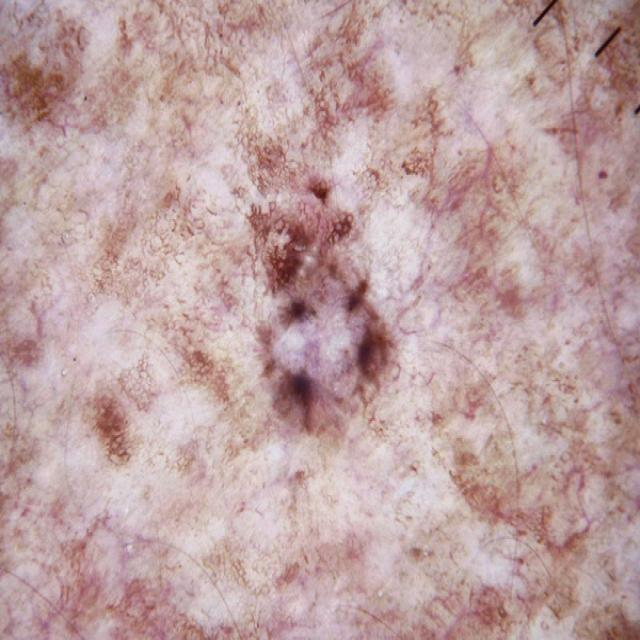Basal-Cell-Carcinoma-BCC-: (131, 76, 475, 514)
